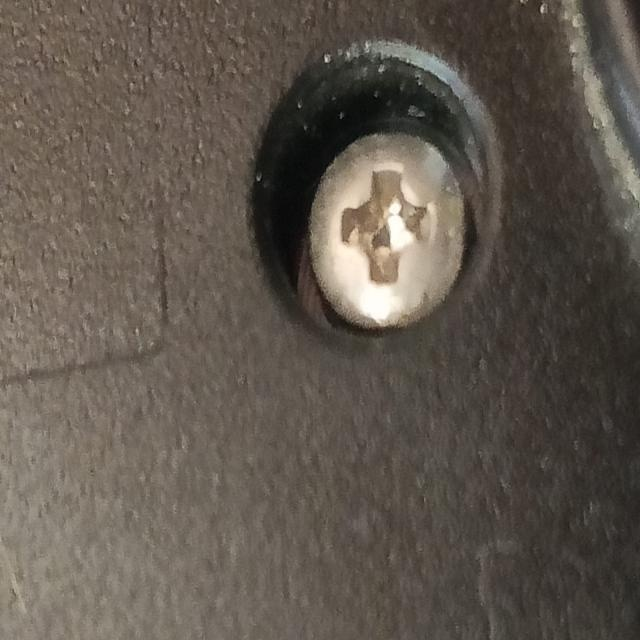phillips: (306, 125, 470, 332)
